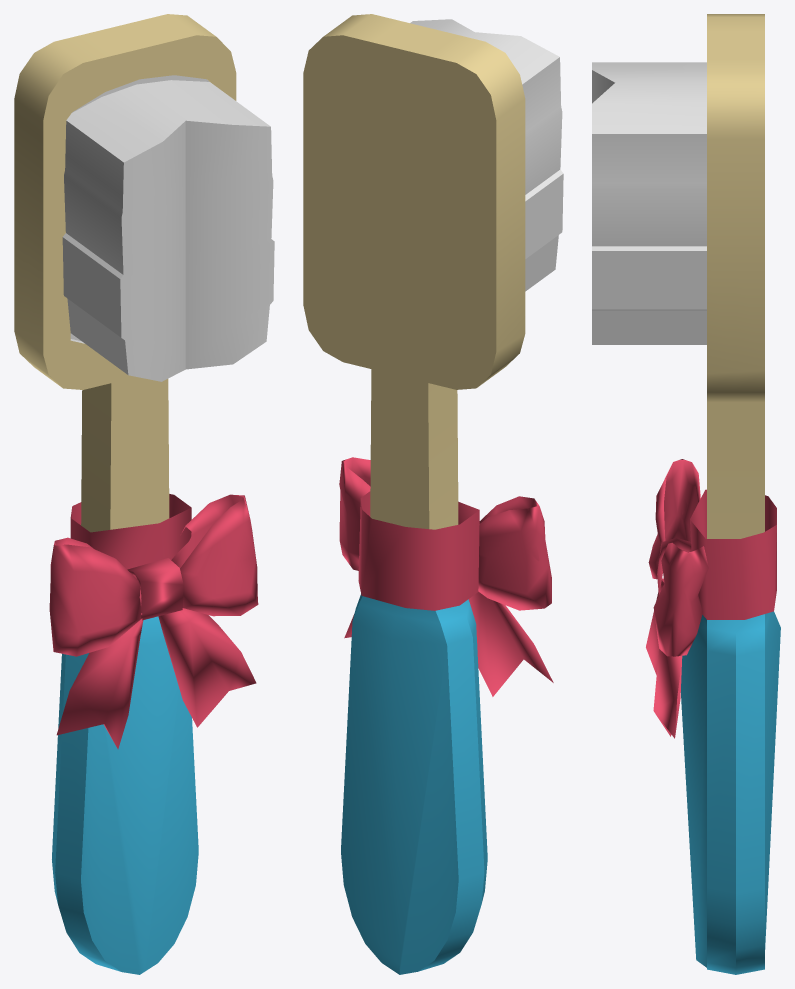
The model's file is Toothbrush.fbx.
3 views of the same model, side by side, from view 1: azimuth 30°, elevation 25°; view 2: azimuth 150°, elevation 25°; view 3: azimuth 270°, elevation 25° (orthographic).
Parts seen in each view (by area): view 1: Cube, Plane; view 2: Cube, Plane; view 3: Cube, Plane.
Part boxes in pixels (bbox=[...]): Cube: bbox=[14, 14, 274, 974]; Plane: bbox=[49, 494, 258, 749]; Cube: bbox=[303, 14, 563, 974]; Plane: bbox=[339, 457, 553, 696]; Cube: bbox=[592, 14, 780, 974]; Plane: bbox=[646, 459, 776, 738].
Size of the model in its own units: 88.35 by 376 by 69.66.
